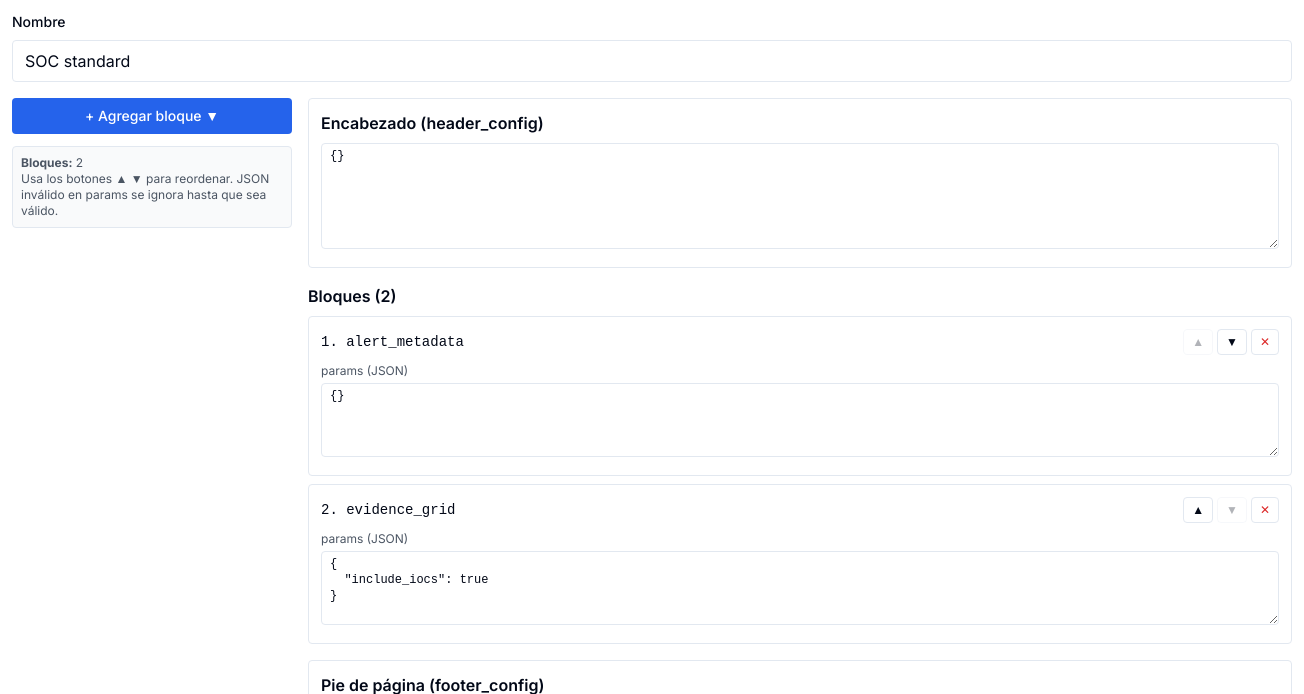
Test: AlertReportTemplateEditor › removes a block when the ✕ button is clicked
Expected: the text "1. alert_metadata" is shown, [321,332,464,352]
Expected: the text "2. evidence_grid" is shown, [321,500,455,520]
Click the button named "eliminar" at (1265, 342), box [1251,329,1279,355]
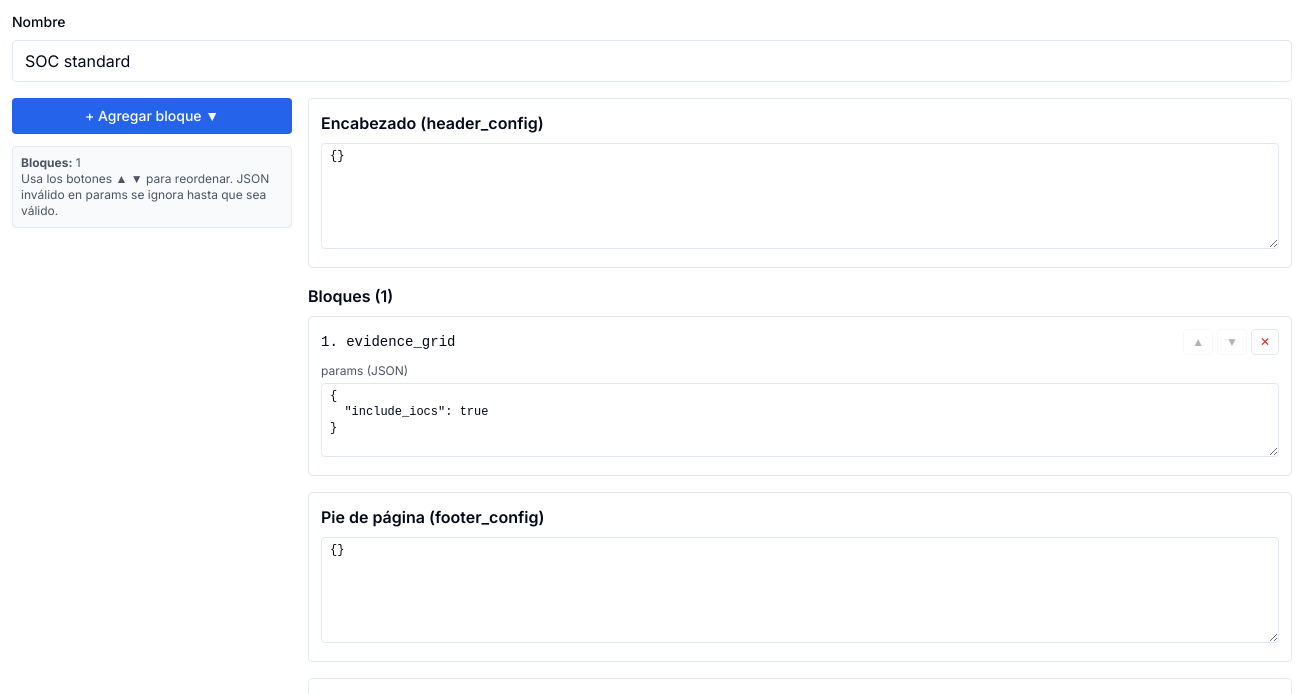
Expected: the text "1. alert_metadata" is gone
Expected: the text "1. evidence_grid" is shown, [321,332,455,352]
